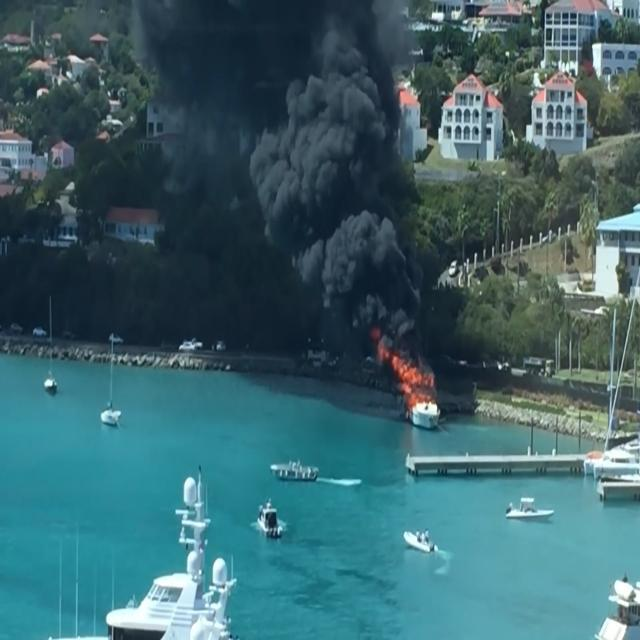Smoke: (259, 43, 385, 226), (324, 208, 411, 324)
